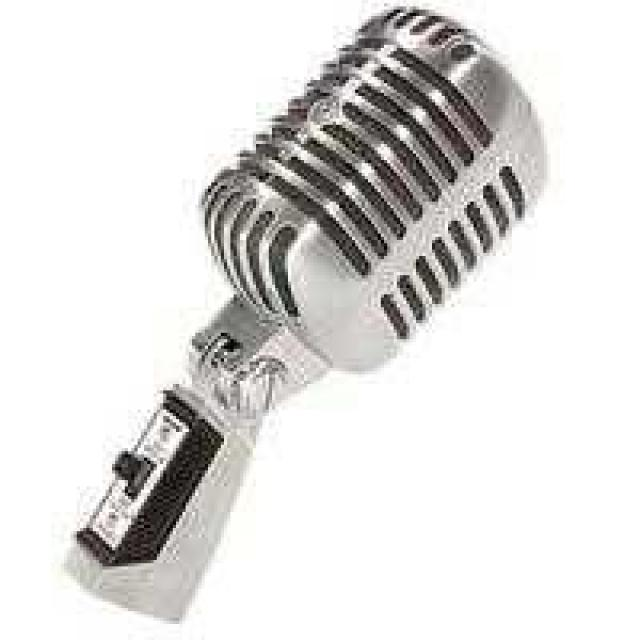microphone: (64, 8, 540, 619)
